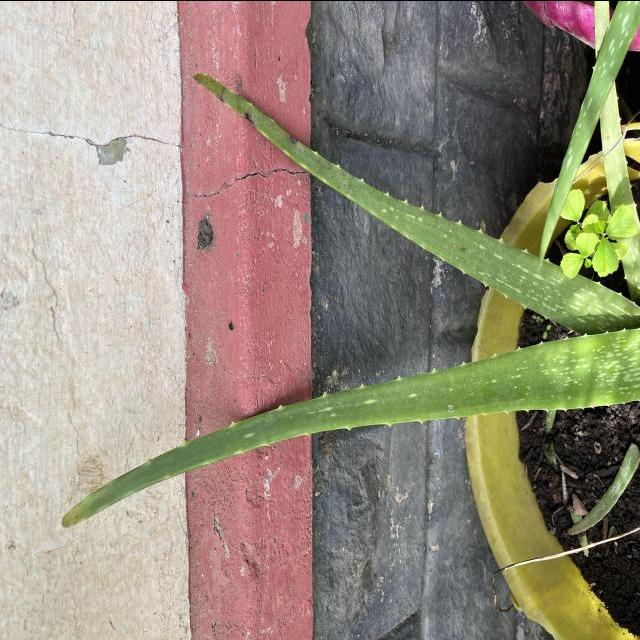Aloe vera: (51, 326, 640, 534)
